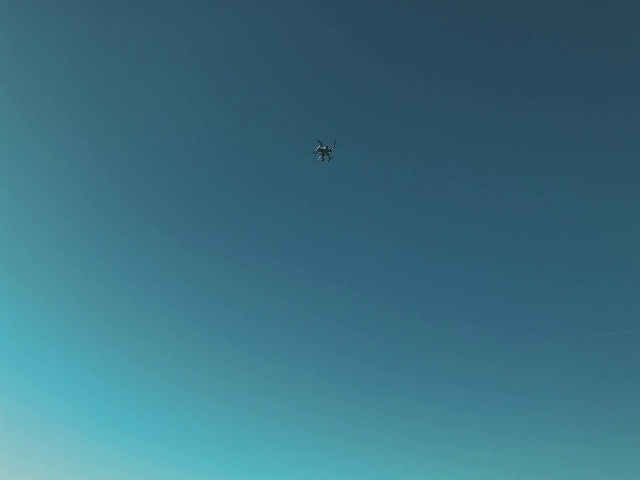drone: (307, 137, 338, 166)
